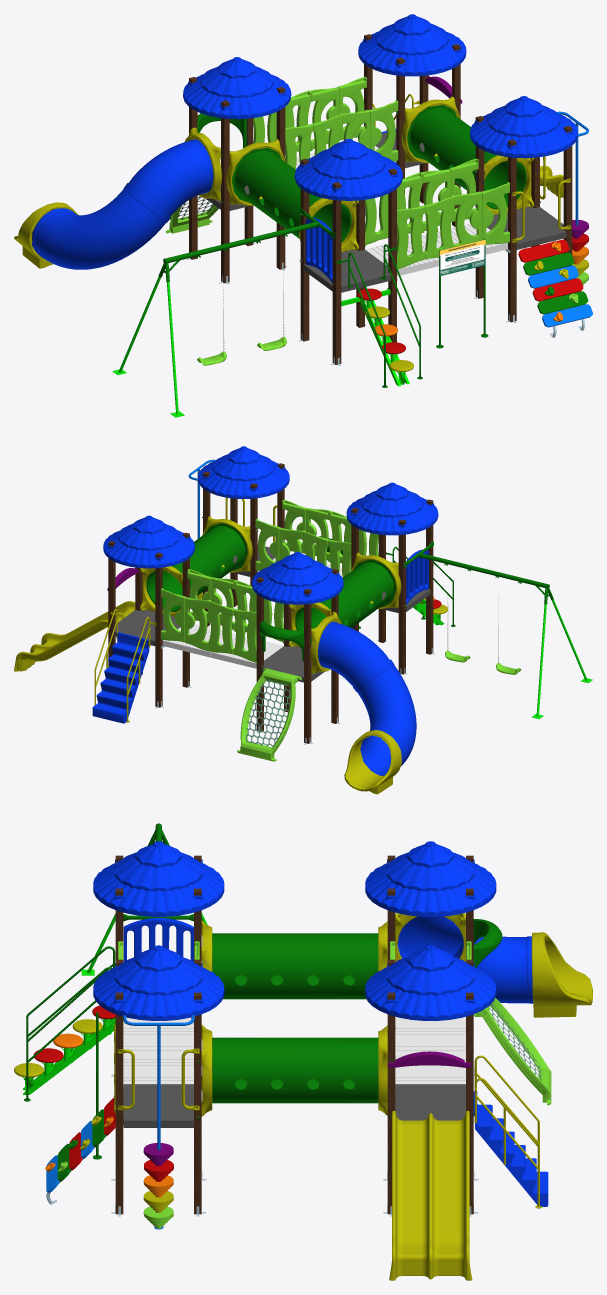
3 views of the same model, one above another, from view 1: azimuth 30°, elevation 25°; view 2: azimuth 150°, elevation 25°; view 3: azimuth 270°, elevation 25° (orthographic). The views are drawn at different scales.
Visible parts, largest first — view 1: object 5, TUNEL RETO 2M M3.001, TUNEL RETO 2M M3, object 43, TOLDO M2, TOLDO M2.002, TOLDO M2.001, TOLDO M2.003, RAMPA DE AGARRA.003, PRANCHA, PLATAFORMA M1.006, COLUNA MAD PLAST 9 X 9CM.020 (+31 smaller); view 2: object 5, TUNEL RETO 2M M3, TUNEL RETO 2M M3.001, TOLDO M2, TOLDO M2.001, TOLDO M2.003, TOLDO M2.002, object 43, PASSARELA FIXA 2M M3, COLUNA MAD PLAST 9 X 9CM.003, COLUNA MAD PLAST 9 X 9CM.015, COLUNA MAD PLAST 9 X 9CM.021 (+24 smaller); view 3: object 5, TUNEL RETO 2M M3, TUNEL RETO 2M M3.001, object 43, TOLDO M2, TOLDO M2.001, TOLDO M2.003, TOLDO M2.002, PASSARELA FIXA 2M M3.001, PASSARELA FIXA 2M M3, PLATAFORMA M1.002, PLATAFORMA M1.004 (+6 smaller).
Part boxes in pixels (x1,y1,x2,y2): object 5: [14, 75, 563, 282]; TUNEL RETO 2M M3.001: [226, 139, 358, 252]; TUNEL RETO 2M M3: [401, 96, 534, 215]; object 43: [112, 111, 588, 417]; TOLDO M2: [358, 14, 466, 76]; TOLDO M2.002: [470, 96, 577, 158]; TOLDO M2.001: [294, 138, 402, 200]; TOLDO M2.003: [183, 57, 291, 119]; RAMPA DE AGARRA.003: [523, 240, 592, 337]; PRANCHA: [518, 239, 588, 314]; PLATAFORMA M1.006: [304, 249, 391, 292]; COLUNA MAD PLAST 9 X 9CM.020: [332, 182, 341, 364]; object 5: [14, 549, 428, 794]; TUNEL RETO 2M M3: [140, 516, 252, 616]; TUNEL RETO 2M M3.001: [288, 552, 401, 647]; TOLDO M2: [103, 515, 194, 568]; TOLDO M2.001: [346, 482, 438, 535]; TOLDO M2.003: [252, 552, 343, 604]; TOLDO M2.002: [198, 446, 289, 498]; object 43: [188, 459, 592, 718]; PASSARELA FIXA 2M M3: [161, 624, 283, 668]; COLUNA MAD PLAST 9 X 9CM.003: [304, 589, 311, 743]; COLUNA MAD PLAST 9 X 9CM.015: [155, 552, 162, 707]; COLUNA MAD PLAST 9 X 9CM.021: [398, 519, 405, 674]; object 5: [123, 913, 592, 1280]; TUNEL RETO 2M M3: [201, 1025, 395, 1116]; TUNEL RETO 2M M3.001: [201, 921, 395, 999]; object 43: [14, 913, 207, 1229]; TOLDO M2: [365, 945, 496, 1020]; TOLDO M2.001: [93, 841, 224, 916]; TOLDO M2.003: [365, 841, 496, 916]; TOLDO M2.002: [93, 945, 224, 1020]; PASSARELA FIXA 2M M3.001: [123, 1017, 193, 1086]; PASSARELA FIXA 2M M3: [395, 1016, 465, 1086]; PLATAFORMA M1.002: [123, 1084, 193, 1127]; PLATAFORMA M1.004: [395, 1084, 465, 1120].
Bounding box in the file's own units: 8.54 × 3.21 × 6.73.
43 materials, 4 textured.
